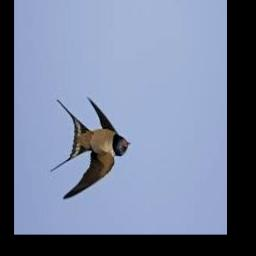Swallow: (49, 98, 130, 201)
